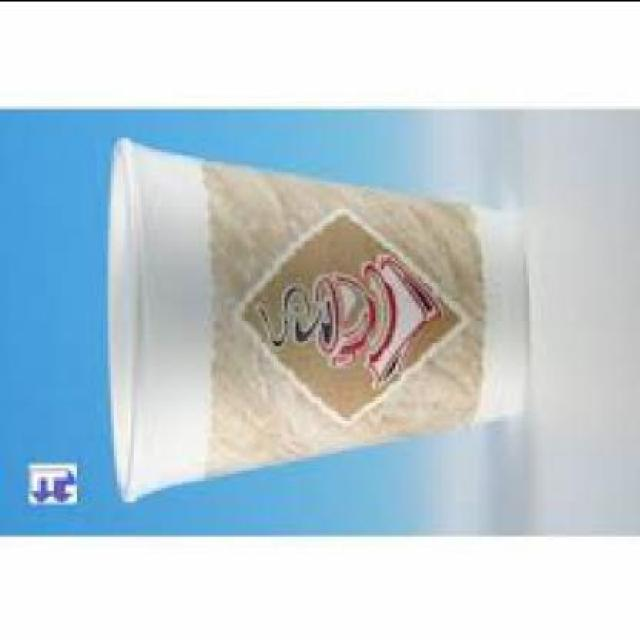PAPER: (102, 132, 524, 498)
